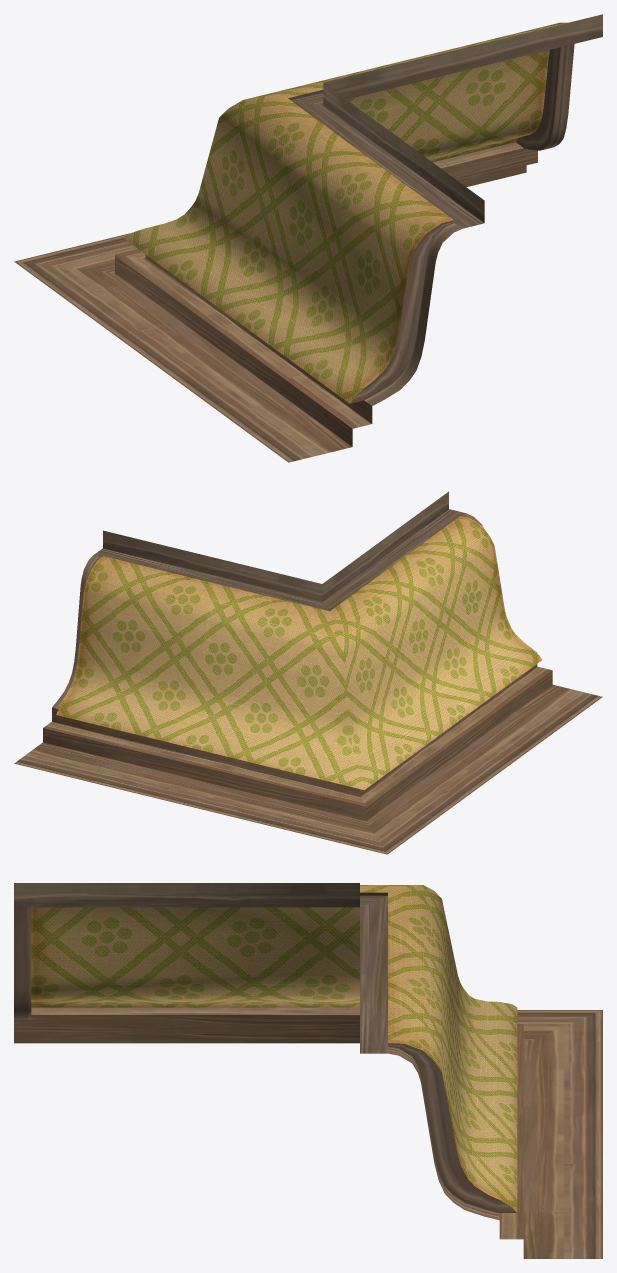
File: Roof_Edge_100x100_01_Mesh.fbx
The picture shows the model from 3 angles, top to bottom: view 1: azimuth 30°, elevation 25°; view 2: azimuth 150°, elevation 25°; view 3: azimuth 270°, elevation 25°; orthographic projection. The views are drawn at different scales.
Visible parts, largest first — view 1: Roof_Edge_100x100_01_LOD0; view 2: Roof_Edge_100x100_01_LOD0; view 3: Roof_Edge_100x100_01_LOD0.
Part boxes in pixels (x1,y1,x2,y2): Roof_Edge_100x100_01_LOD0: (14, 14, 602, 462); Roof_Edge_100x100_01_LOD0: (14, 491, 602, 854); Roof_Edge_100x100_01_LOD0: (14, 883, 602, 1258).
Bounding box in the file's own units: 100 × 43.01 × 100.
